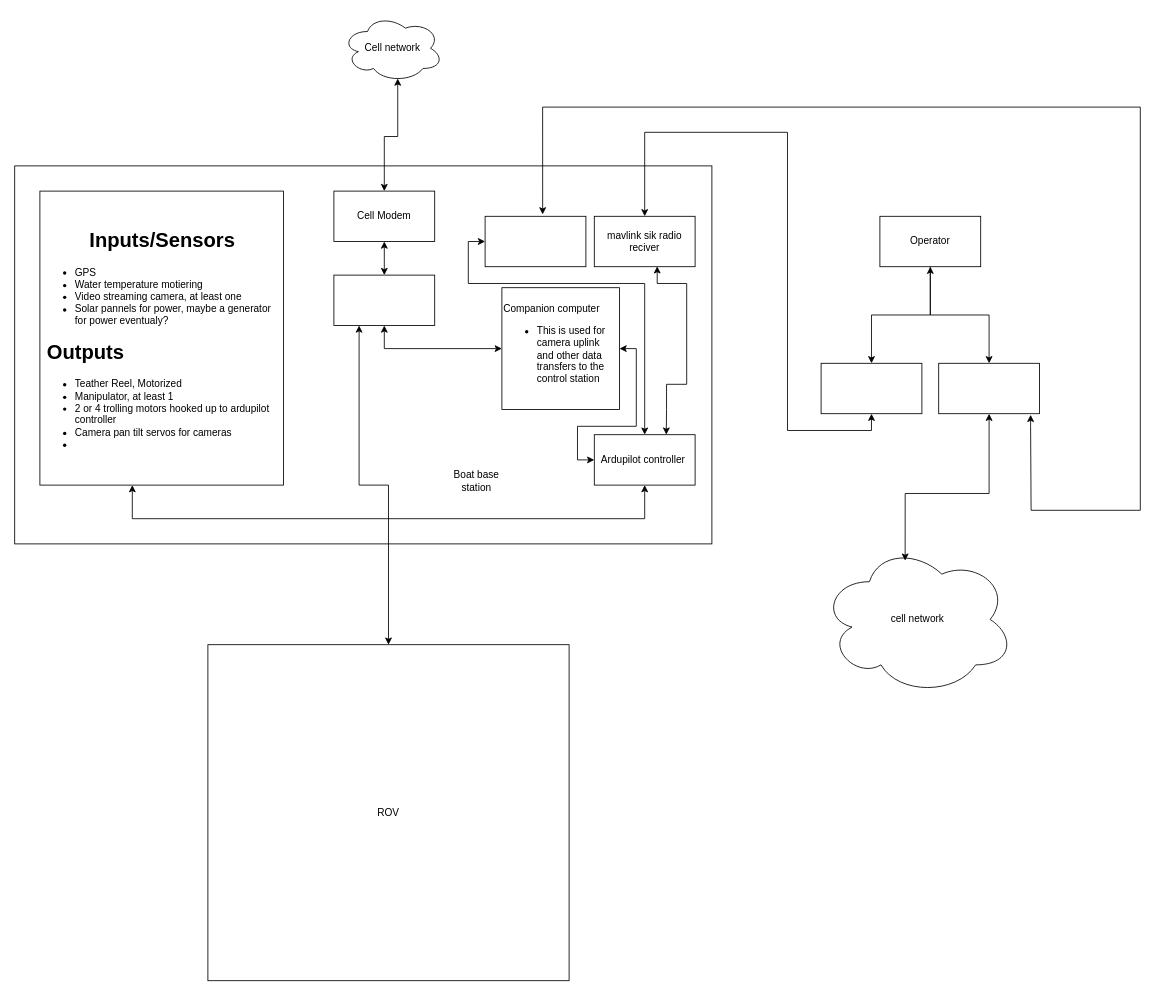
This 1163x995 diagram has some shape labels left out. The centre of each missing label's shape, as x and y in pixels:
Ground controll station computer: the point at 989,388
RC controler: the point at 871,388
RC reciver: the point at 535,241
Router: the point at 384,300
